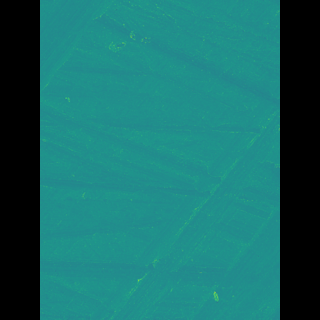Loch: (108, 75, 249, 320), (69, 0, 123, 94)
